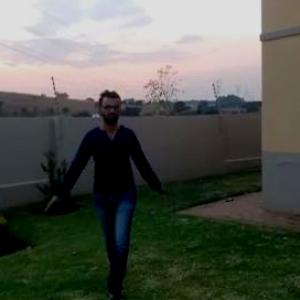land: (30, 75, 183, 299)
